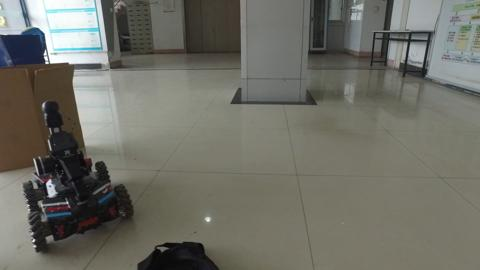chariot: (24, 101, 135, 248)
